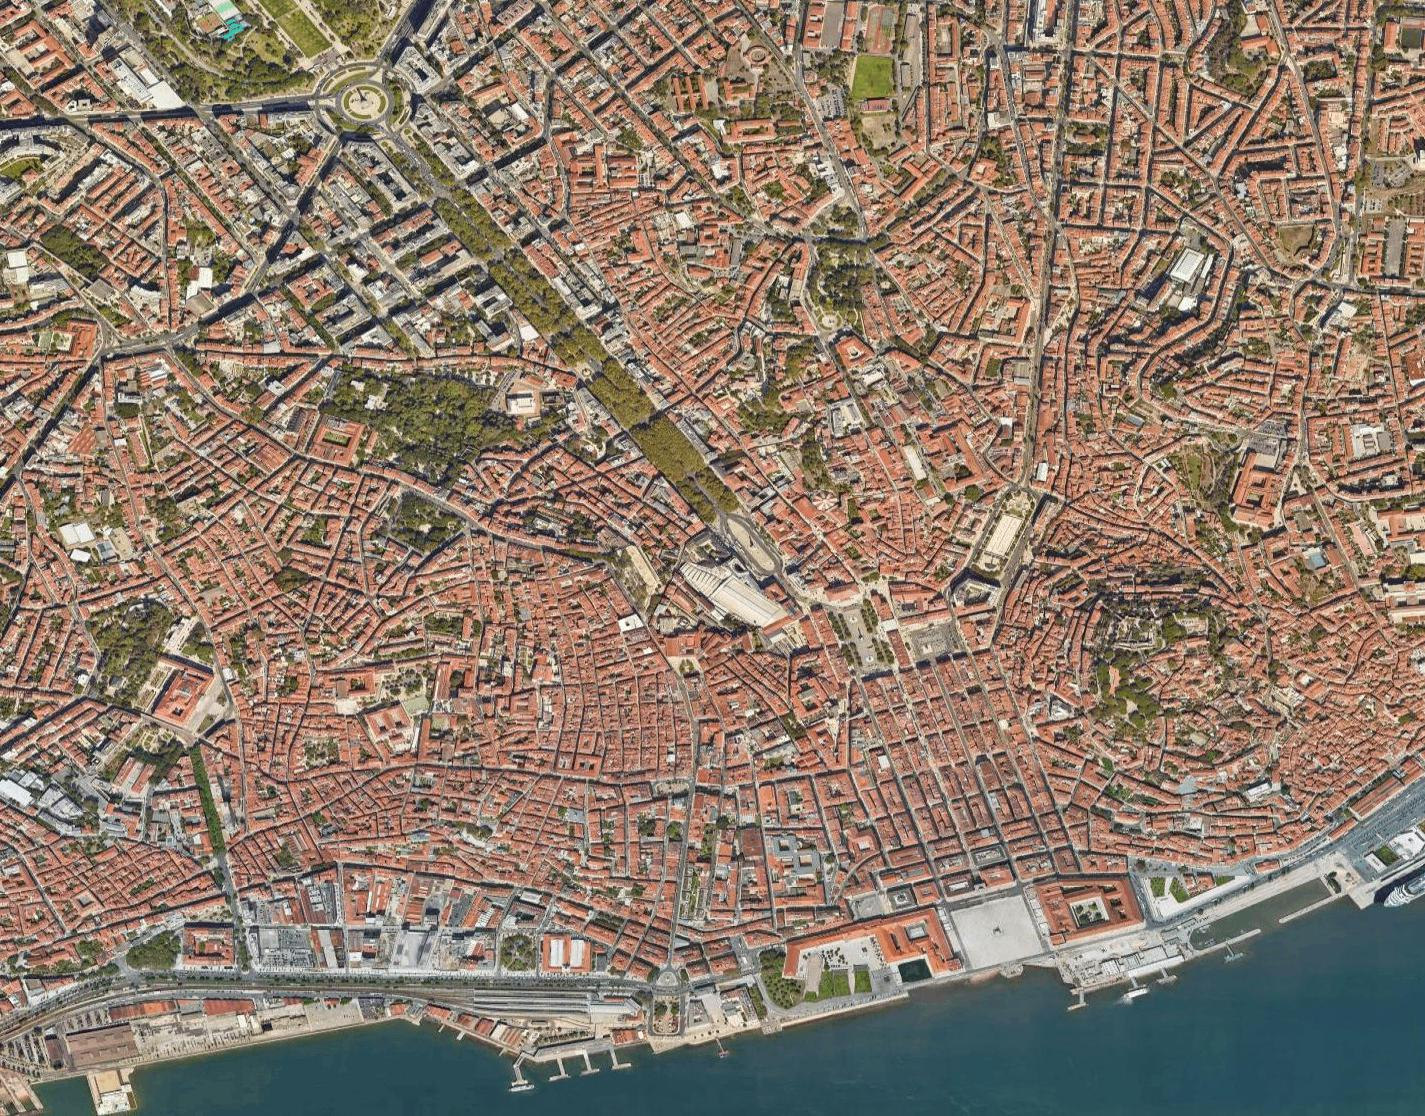harbor: (1041, 834, 1425, 1022), (385, 988, 733, 1096)
train_station: (667, 546, 790, 631)
